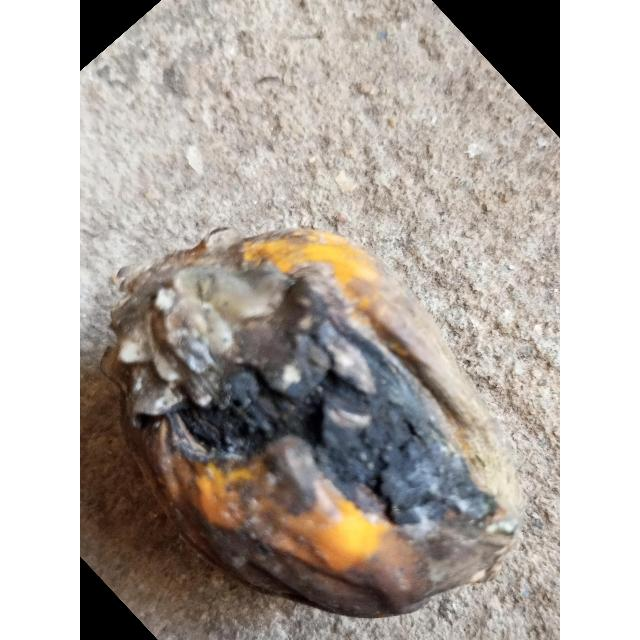damaged: (100, 228, 526, 621)
